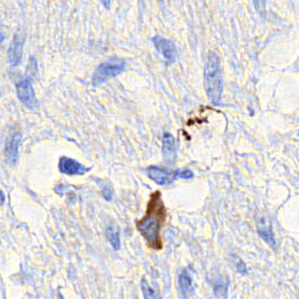Lymphocyte: (134, 189, 171, 251)
